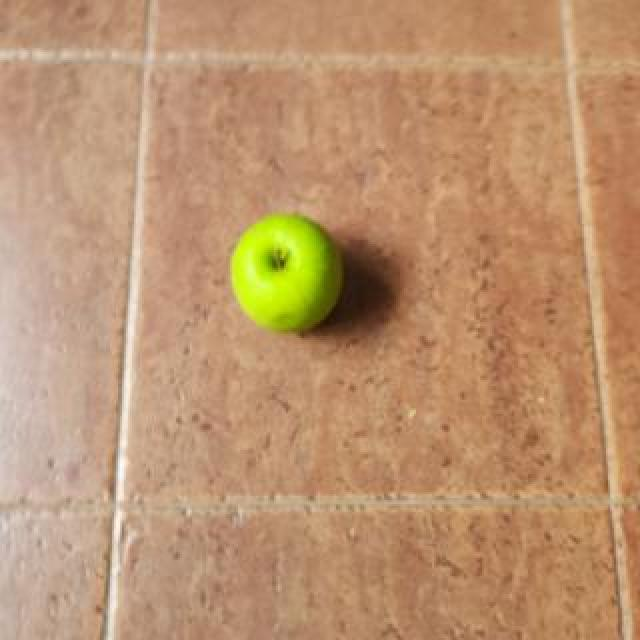Fresh Apple: (224, 212, 344, 344)
